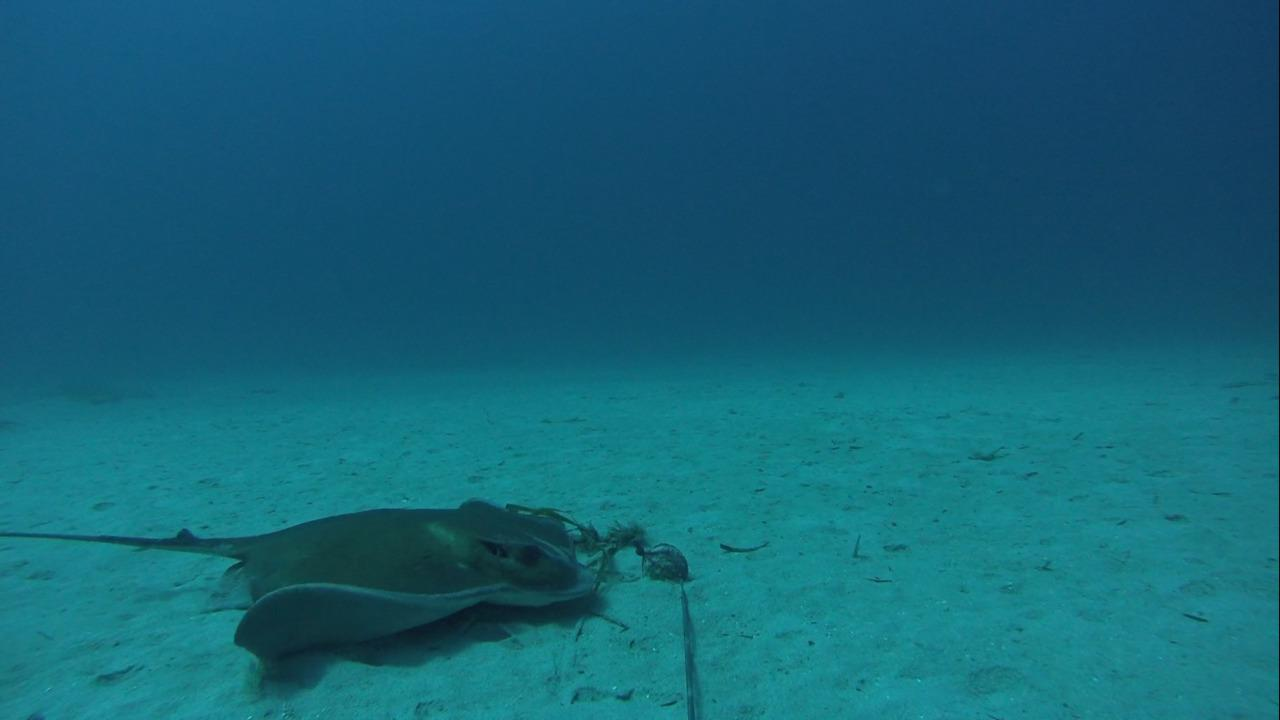myliobatis: (3, 495, 603, 665)
